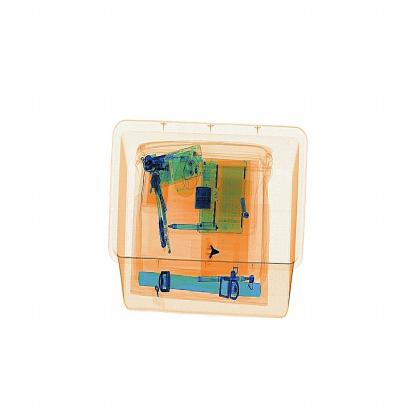gun: (197, 235, 231, 267)
